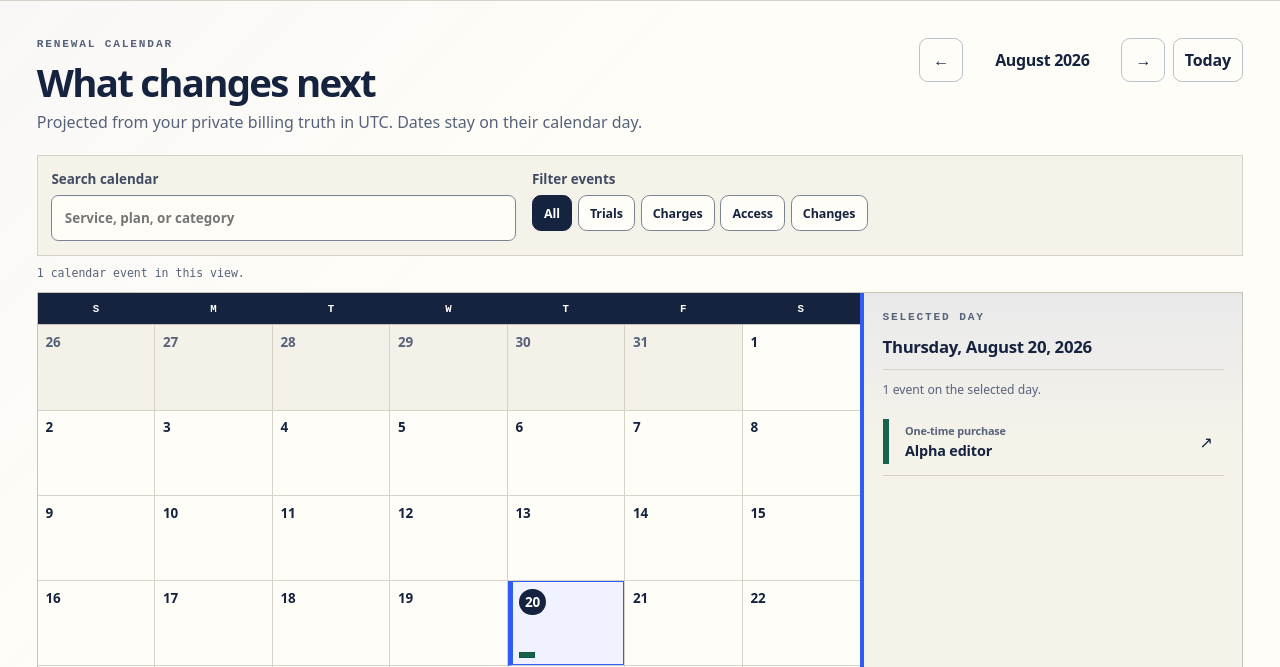
CalendarAgendaExperience › distinguishes no search matches from a genuinely empty day
Type "missing" into the search field labelled "Search calendar" at x=284, y=218, box x1=51 y1=195 x2=516 y2=241
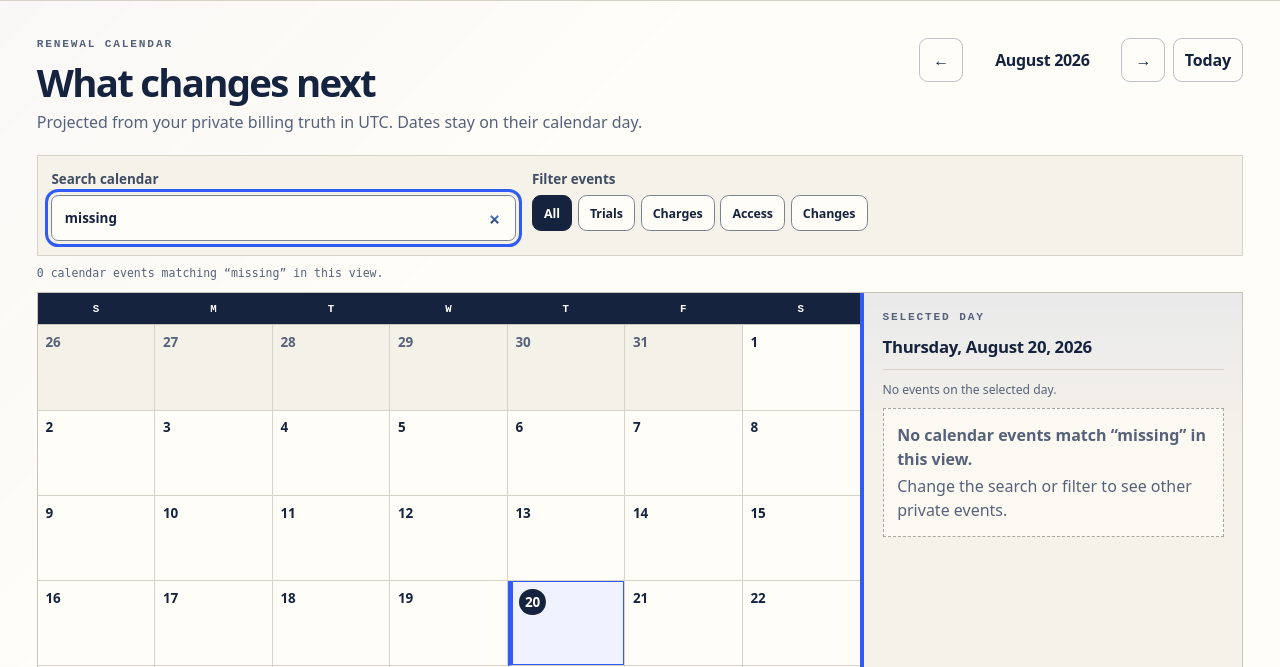
Check: the text "No calendar events match “missing” in this view." is shown, box x1=897 y1=424 x2=1206 y2=470
